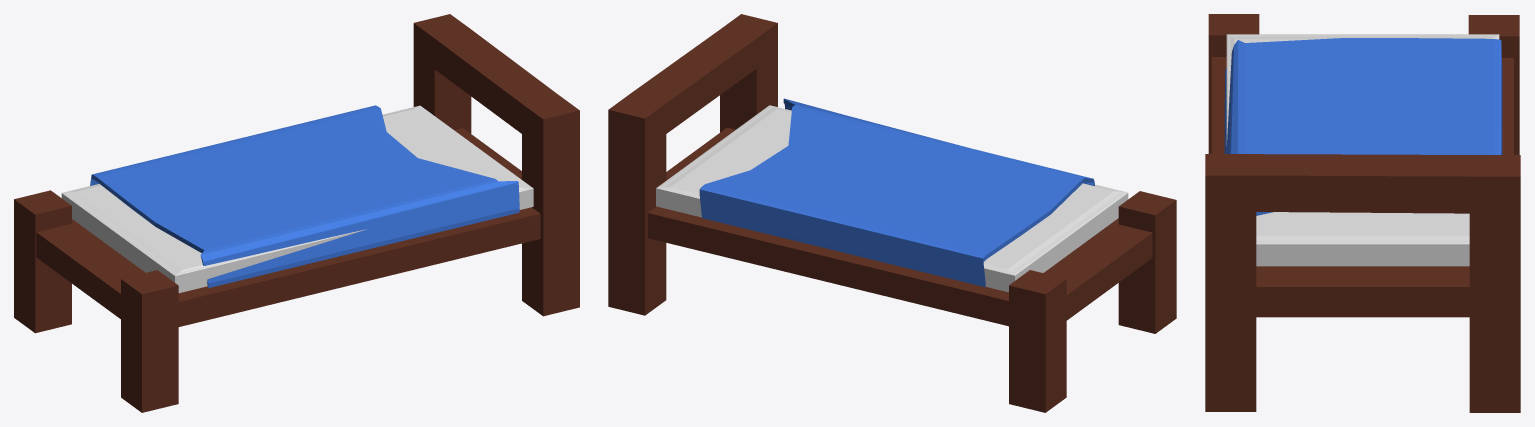
The model's file is Cama.fbx.
The picture shows the model from 3 angles, left to right: view 1: azimuth 30°, elevation 25°; view 2: azimuth 150°, elevation 25°; view 3: azimuth 270°, elevation 25°; orthographic projection. The views are drawn at different scales.
Visible parts, largest first — view 1: Cama; view 2: Cama; view 3: Cama.
Boxes of the visible parts, x1=… form: Cama: x1=14, y1=14, x2=579, y2=412; Cama: x1=608, y1=14, x2=1176, y2=412; Cama: x1=1205, y1=14, x2=1520, y2=412.
Bounding box in the file's own units: 162 × 69.61 × 84.08.
